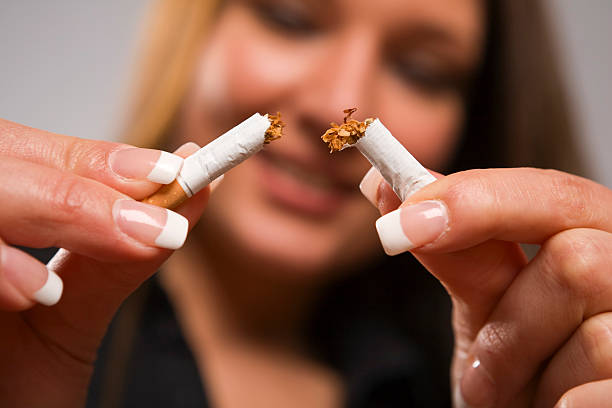cigarette: (142, 110, 284, 205), (325, 104, 438, 199)
